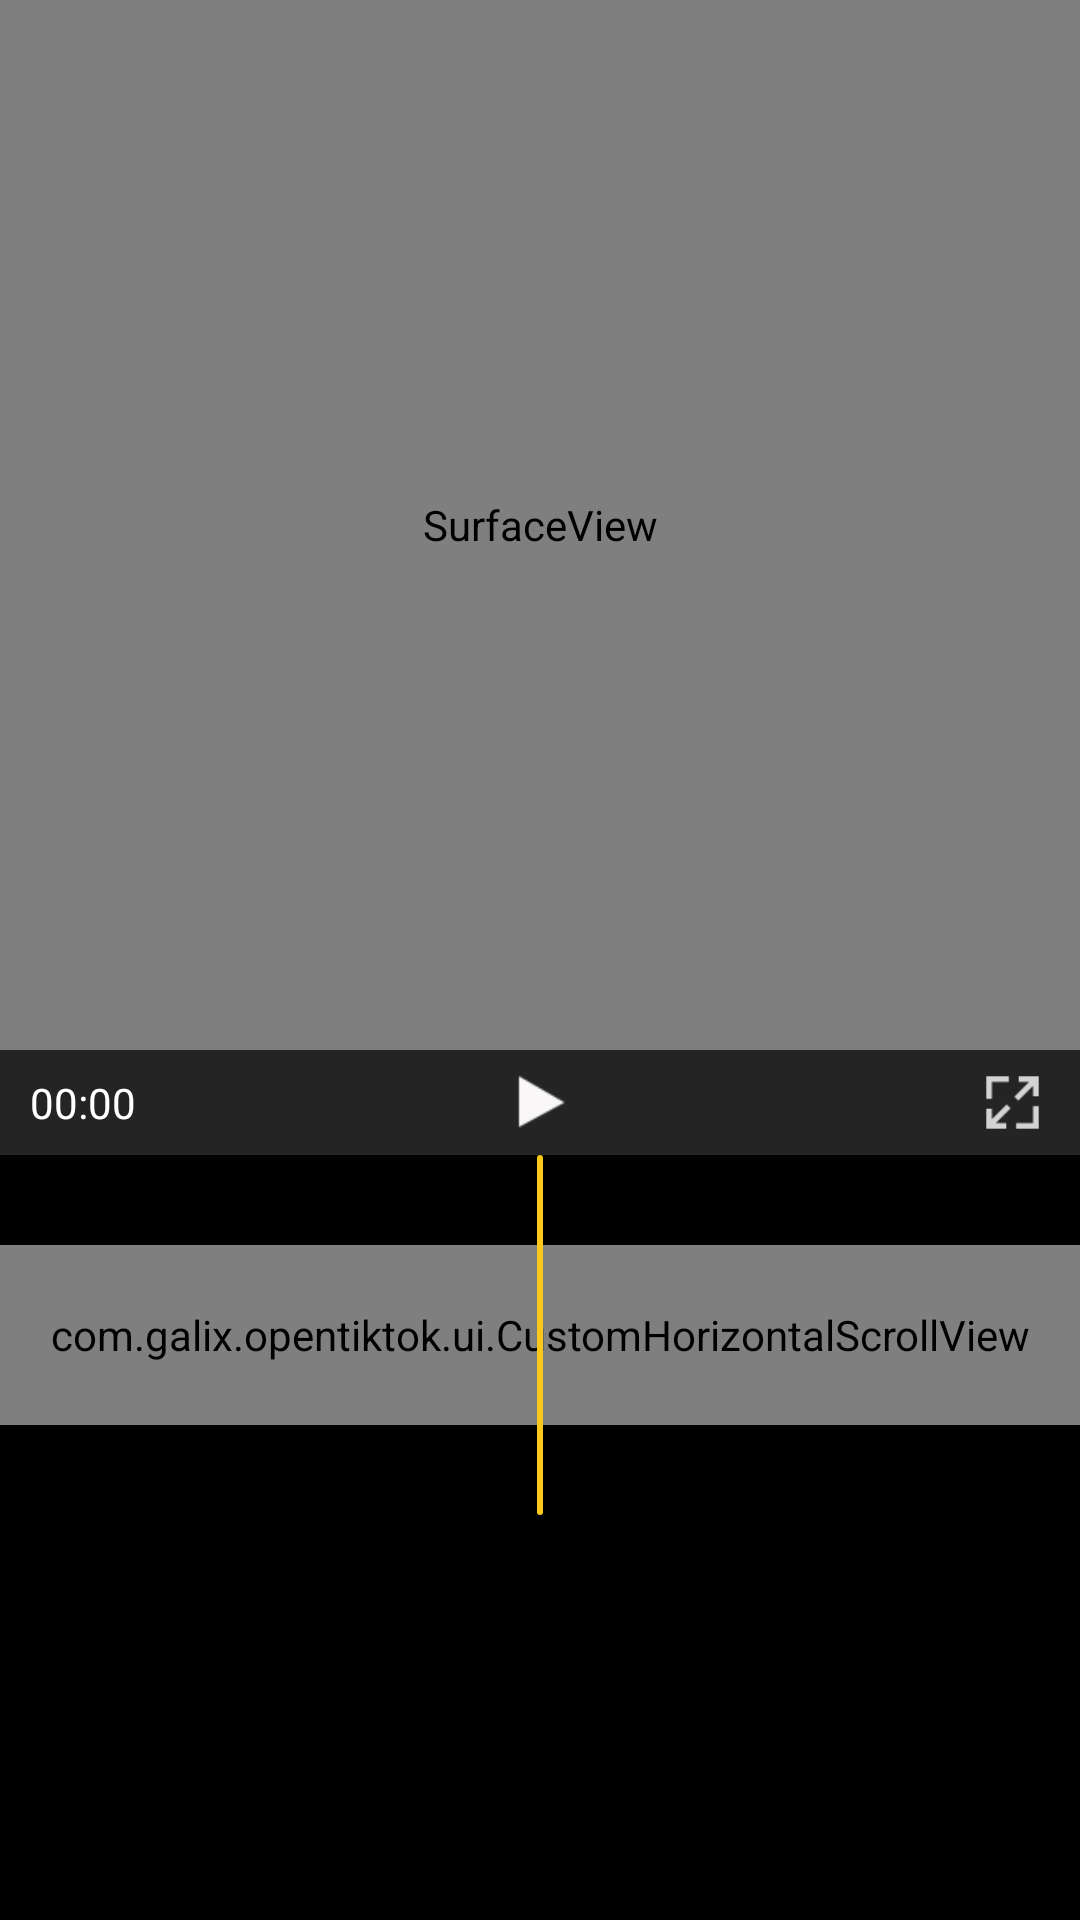

Icon click points for this 1080w x 1920h phone screenshot, format [x,y]:
fullscreen: [1012,1102]
video play: [541,1102]
